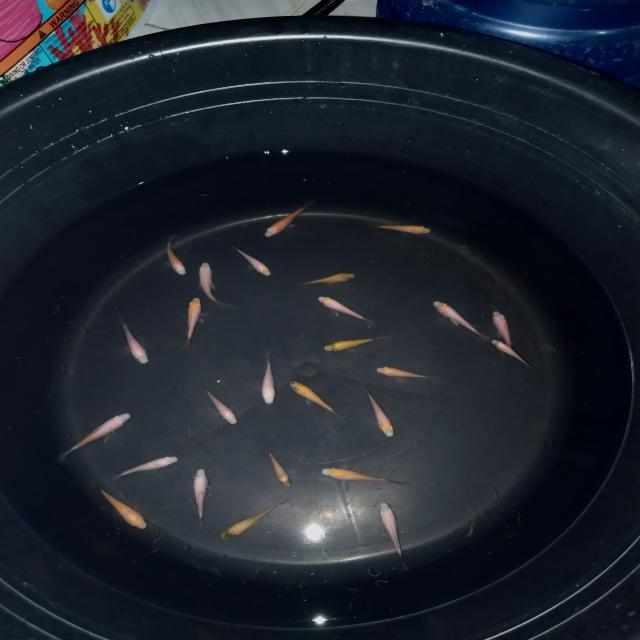nila: (54, 410, 134, 464), (91, 481, 150, 532), (220, 500, 290, 540), (355, 382, 400, 440), (430, 298, 488, 343), (376, 500, 412, 570), (259, 201, 317, 240), (113, 312, 153, 366), (315, 294, 378, 326), (287, 378, 340, 416), (318, 467, 404, 488), (192, 260, 231, 306), (112, 455, 180, 481), (201, 384, 243, 426), (316, 334, 400, 354), (189, 468, 216, 530), (261, 446, 297, 490), (229, 245, 275, 278), (489, 338, 536, 370), (178, 297, 204, 350), (257, 352, 280, 410), (489, 308, 518, 353), (374, 364, 438, 384), (160, 234, 190, 276), (368, 222, 434, 236), (302, 271, 359, 287)
